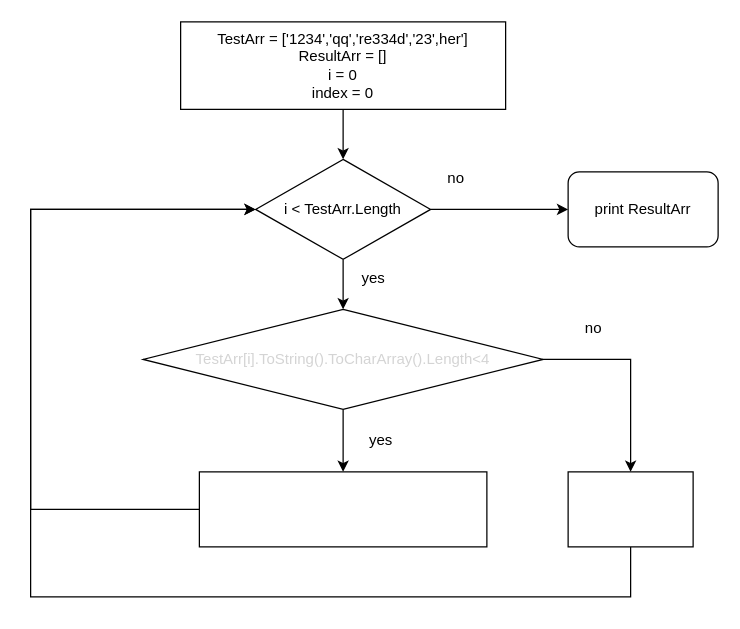
The diagram is 740 pixels wide and 629 high, and some of its shapes have lost their labels. The shapes that lost their labels are listed below. From the top down, each one's box as (x1, y1, x2, y2) in pixels, then its label:
(198, 471, 487, 547): ResultArr[index] = TestArr[i] i ++ index++
(567, 471, 693, 547): i ++
